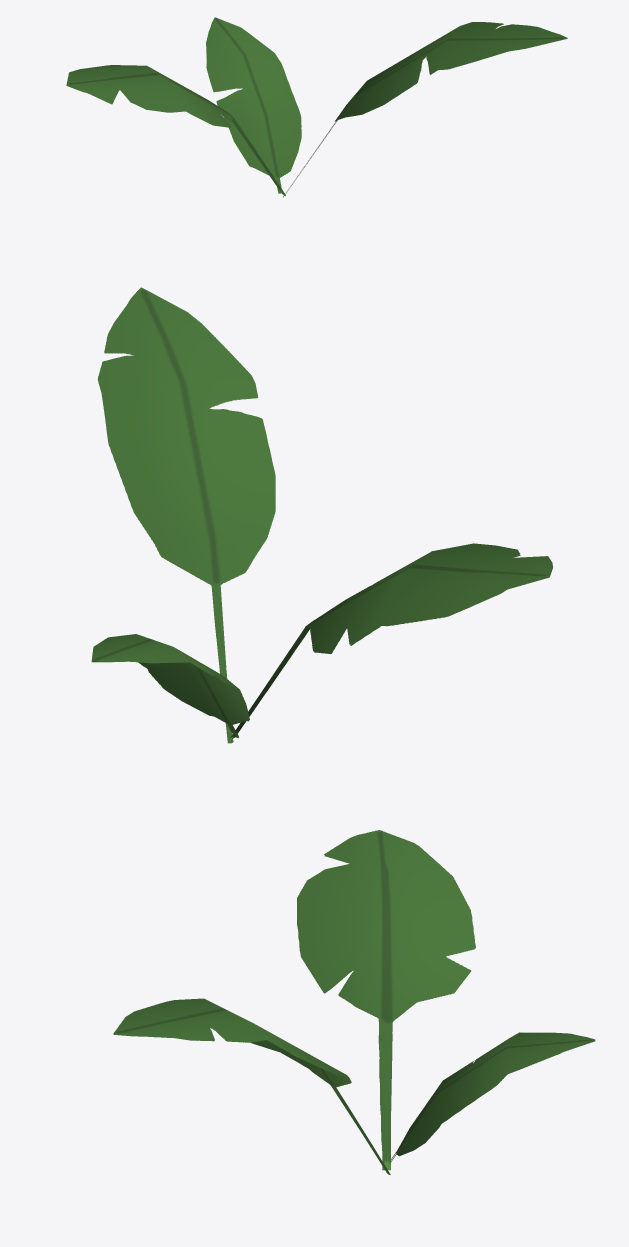
The model's file is Bunch.fbx.
3 renders of one model, top to bottom at view 1: azimuth 30°, elevation 25°; view 2: azimuth 150°, elevation 25°; view 3: azimuth 270°, elevation 25°, orthographic. The views are drawn at different scales.
Visible parts, largest first — view 1: pPlane2, pPlane3, pPlane1; view 2: pPlane3, pPlane1, pPlane2; view 3: pPlane1, pPlane3, pPlane2.
Boxes of the visible parts, left/top/right/bottom form: pPlane2: left=206, top=17, right=301, bottom=193; pPlane3: left=283, top=22, right=567, bottom=197; pPlane1: left=66, top=65, right=285, bottom=195; pPlane3: left=97, top=287, right=275, bottom=743; pPlane1: left=229, top=543, right=552, bottom=740; pPlane2: left=91, top=634, right=249, bottom=737; pPlane1: left=297, top=830, right=475, bottom=1170; pPlane3: left=113, top=998, right=390, bottom=1174; pPlane2: left=389, top=1032, right=595, bottom=1163.
Bounding box in the file's own units: 0.1846 × 0.0799 × 0.1622.
Materials: 1 (1 with a texture image).
